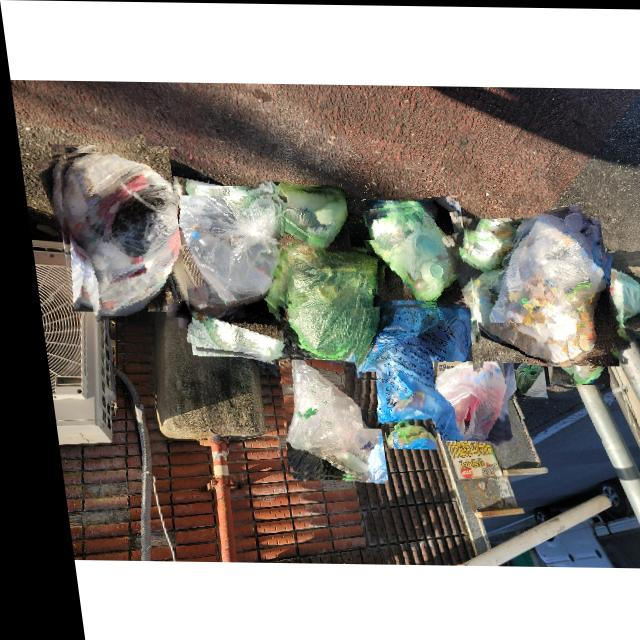general_trashbag: (347, 301, 467, 427), (273, 239, 374, 358), (360, 203, 460, 299), (556, 244, 640, 326), (257, 181, 341, 248), (182, 301, 274, 358), (534, 325, 596, 381), (374, 418, 423, 448), (504, 362, 532, 397)
other_trashbag: (54, 152, 173, 315), (469, 212, 598, 360), (160, 196, 275, 316), (274, 359, 369, 479), (473, 323, 555, 397), (427, 355, 494, 440)
